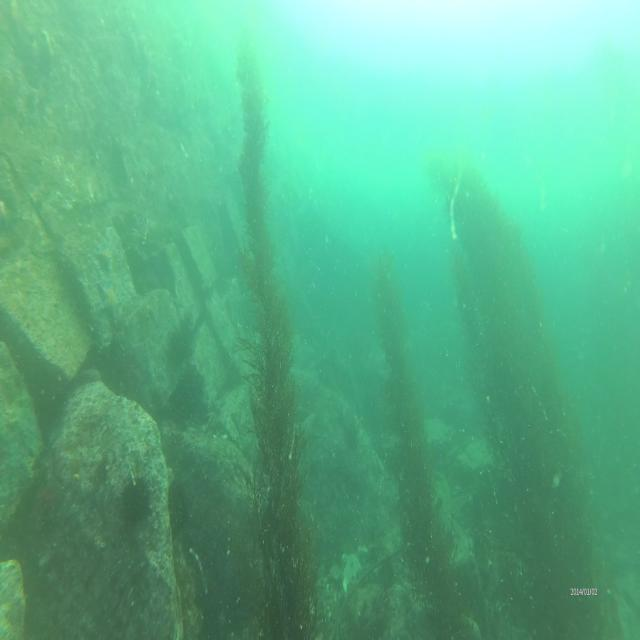echinus: (171, 371, 203, 421), (166, 318, 194, 369), (121, 476, 149, 523)
